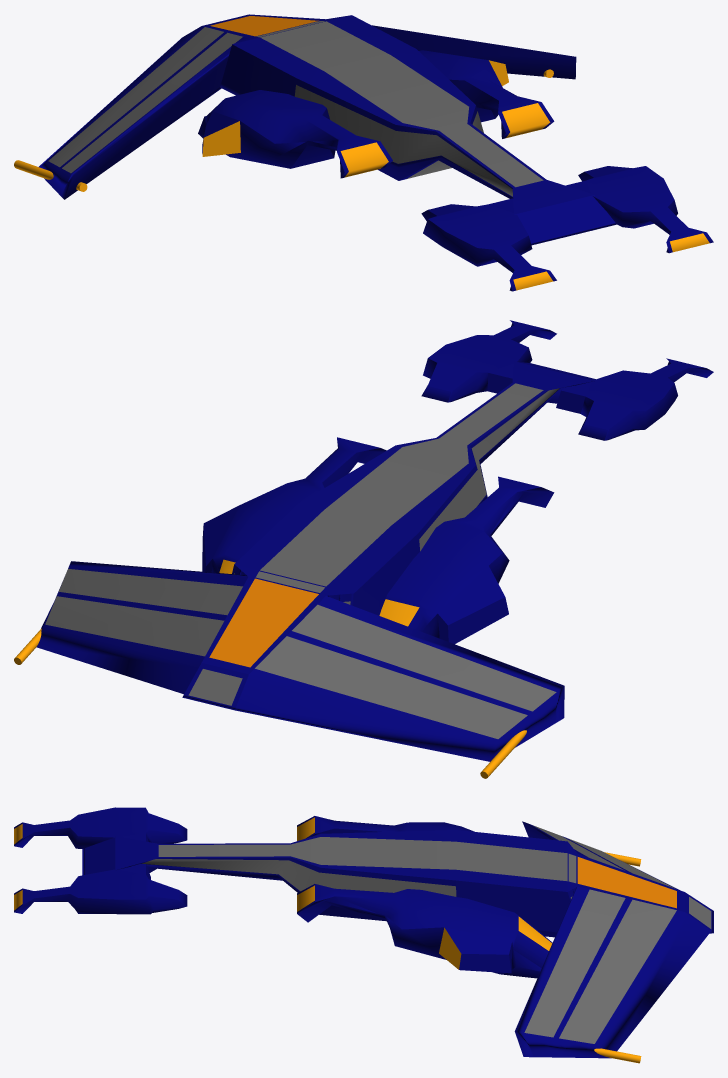
The model's file is hammerhead.fbx.
3 views of the same model, one above another, from view 1: azimuth 30°, elevation 25°; view 2: azimuth 150°, elevation 25°; view 3: azimuth 270°, elevation 25° (orthographic). The views are drawn at different scales.
Parts seen in each view (by area): view 1: polySurface11; view 2: polySurface11; view 3: polySurface11.
Boxes of the visible parts, bbox=[...] form: polySurface11: bbox=[14, 14, 713, 291]; polySurface11: bbox=[14, 320, 713, 778]; polySurface11: bbox=[14, 807, 713, 1063].
Bounding box in the file's own units: 14 × 3.49 × 19.35.
